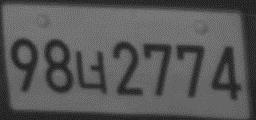2: (113, 40, 143, 97)
4: (211, 44, 242, 100)
7: (142, 42, 172, 96), (176, 43, 205, 97)
8: (44, 38, 74, 93)
9: (10, 37, 39, 91)
너: (75, 49, 108, 95)
